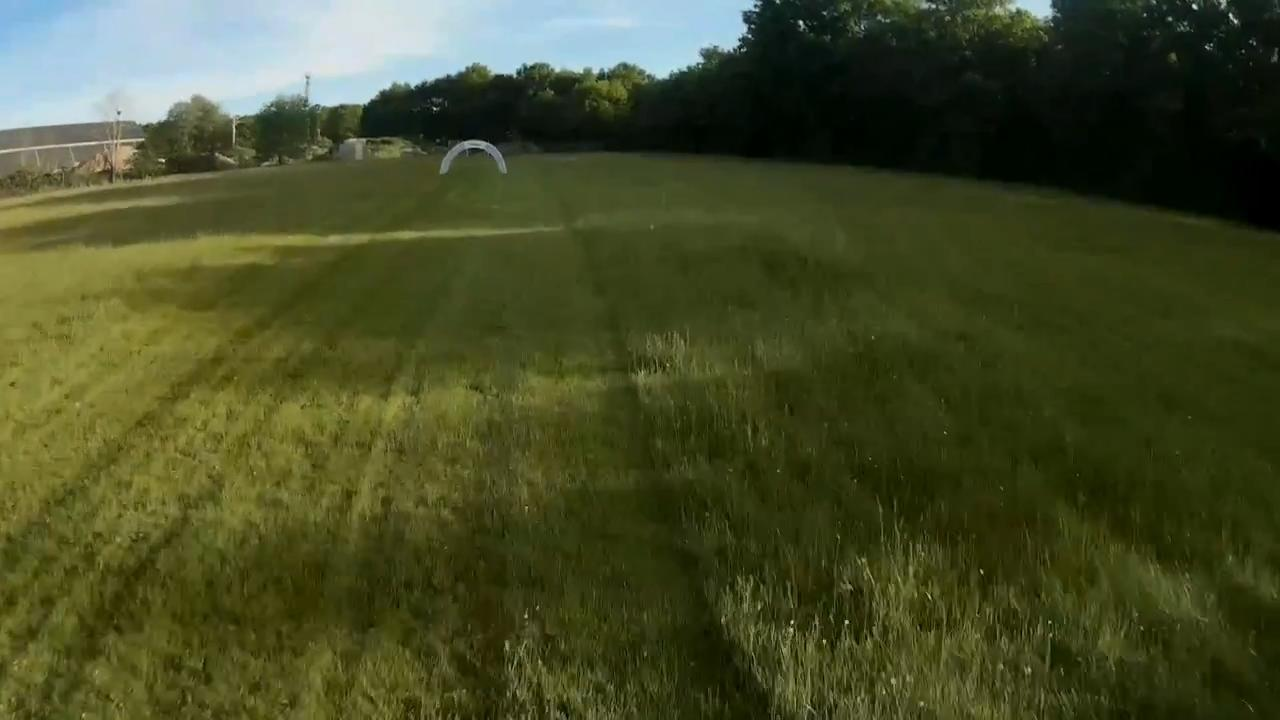gate: (437, 137, 510, 183)
